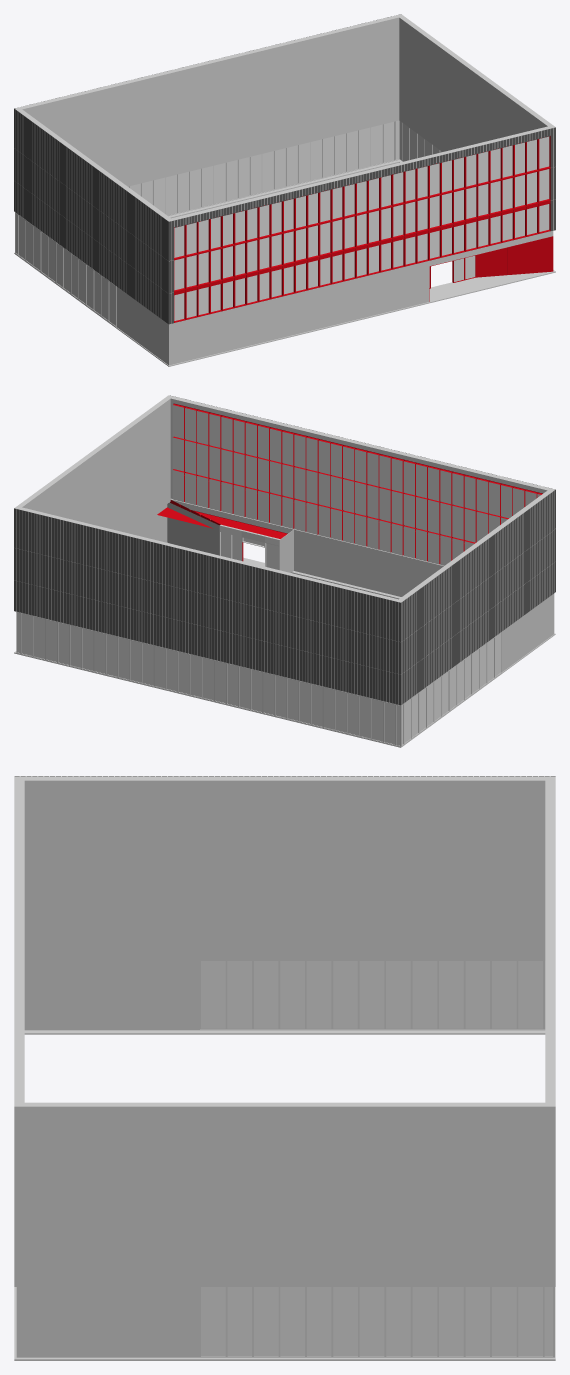
The model's file is remove.fbx.
3 renders of one model, top to bottom at view 1: azimuth 30°, elevation 25°; view 2: azimuth 150°, elevation 25°; view 3: azimuth 270°, elevation 25°, orthographic. The views are drawn at different scales.
Visible parts, largest first — view 1: Cube.001, Plane.003, Plane.004, Plane.005, Plane.001; view 2: Cube.001, Plane.008, Plane.007, Plane.006, Plane.003, Plane.004, Plane.005; view 3: Cube.001.
Boxes of the visible parts, x1,y1,x2,y2 form: Cube.001: (14,14,555,366); Plane.003: (14,109,168,260); Plane.004: (14,148,168,293); Plane.005: (14,181,168,323); Plane.001: (168,127,555,229); Cube.001: (14,395,555,747); Plane.008: (14,508,400,641); Plane.007: (14,548,400,674); Plane.006: (14,580,400,705); Plane.003: (401,490,555,641); Plane.004: (401,529,555,674); Plane.005: (401,562,555,704); Cube.001: (14,776,555,1360).
Size of the model in its own units: 4141 by 1484 by 2868.
